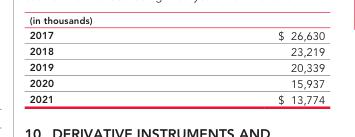table: (28, 28, 324, 106)
table column: (165, 28, 324, 106), (28, 28, 165, 106)
table row: (28, 43, 324, 59), (28, 59, 324, 75), (28, 75, 324, 91), (28, 28, 324, 43), (28, 91, 324, 106)
